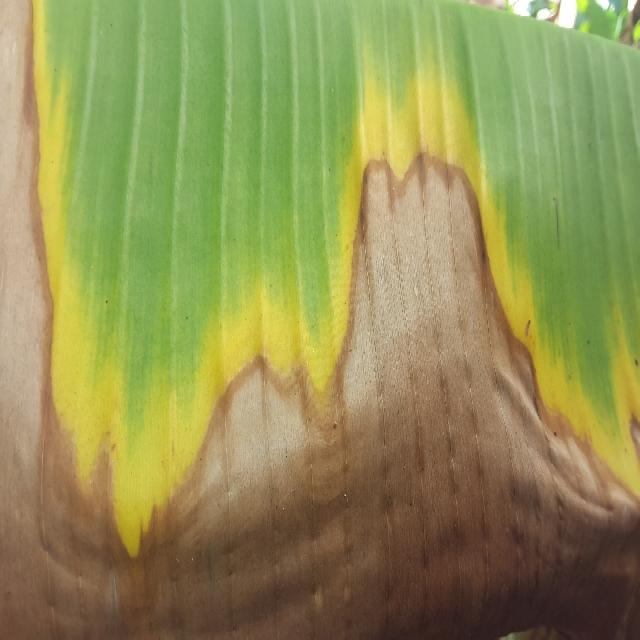Cordana: (252, 0, 554, 567), (18, 0, 298, 562), (501, 89, 640, 608)
